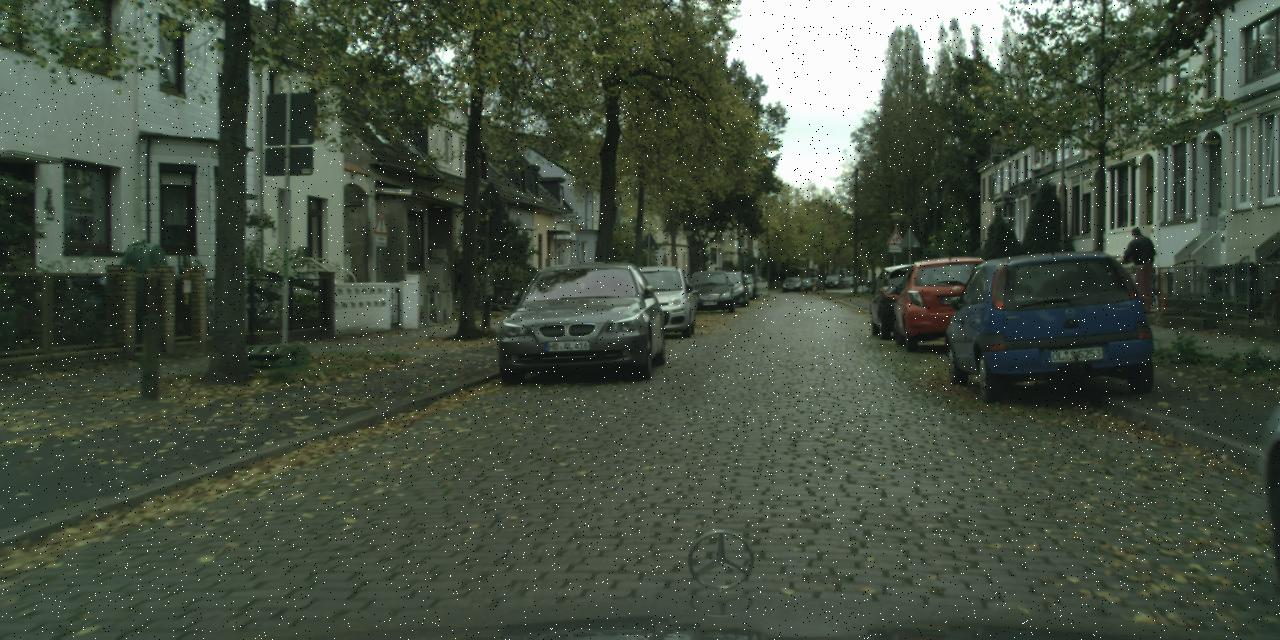ped: (1123, 227, 1156, 307)
